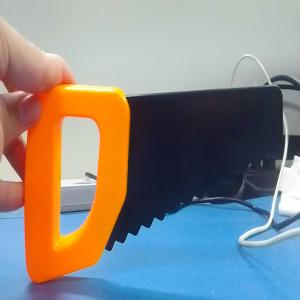serrote: (28, 84, 284, 284)
